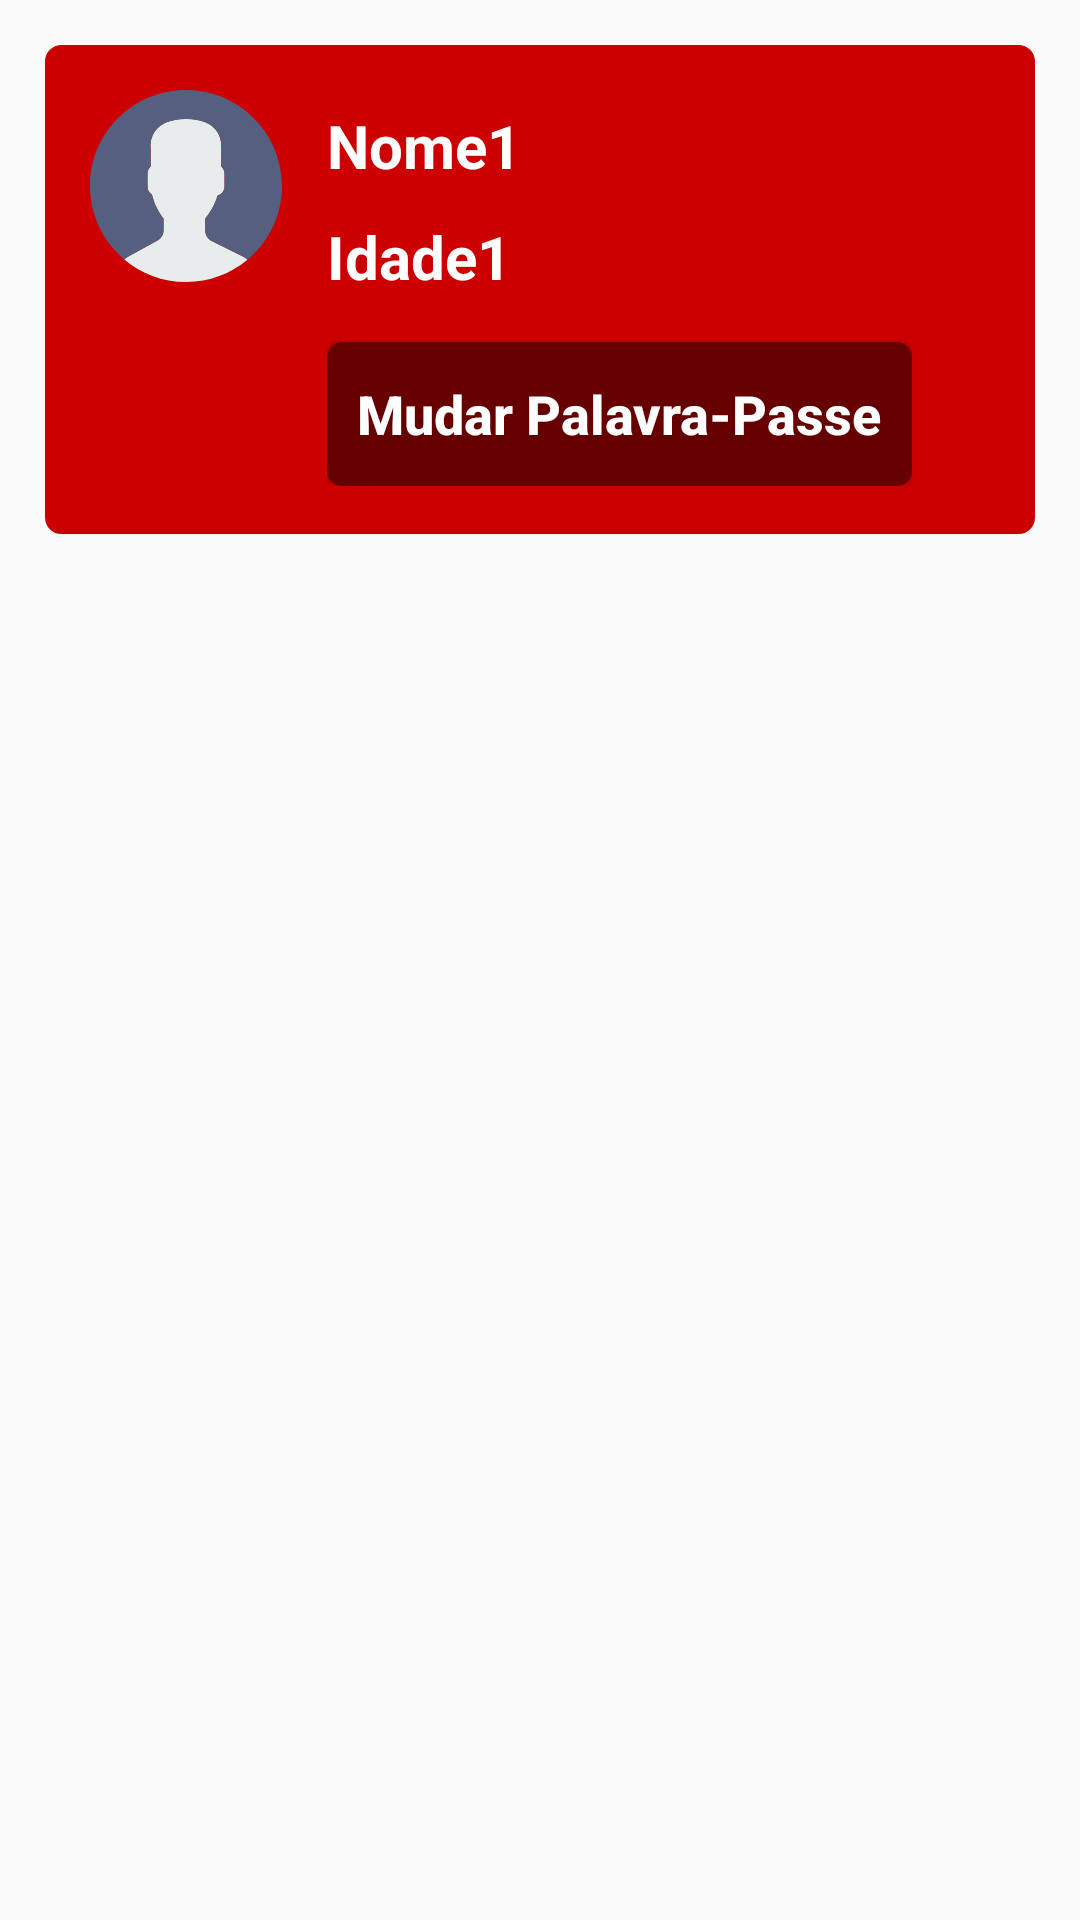

Icons on this 1080x1920 Android screen, each with the point to tap as (x=x, y=y):
user: (x=186, y=186)
